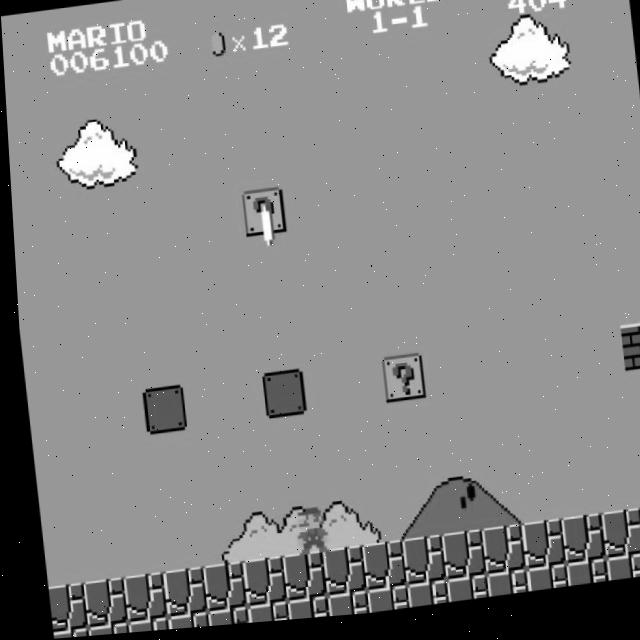1- brick_block: (615, 331, 640, 382)
11- little_mario: (280, 508, 328, 562)
13- mystery_block: (376, 359, 421, 410), (239, 191, 284, 241)
17- undestructible_block: (593, 518, 639, 569), (394, 541, 440, 591), (75, 578, 120, 629), (155, 569, 200, 620), (195, 564, 240, 615), (235, 559, 280, 610), (275, 555, 320, 606), (315, 550, 360, 601), (434, 536, 479, 587), (514, 527, 559, 578), (554, 522, 599, 573), (115, 574, 160, 624), (355, 546, 400, 596), (474, 532, 519, 582), (41, 583, 81, 633), (478, 577, 522, 605), (359, 591, 402, 619), (399, 586, 442, 614), (518, 572, 561, 600), (558, 568, 601, 596), (438, 582, 482, 609), (598, 563, 640, 590), (319, 596, 362, 621), (279, 600, 322, 624), (239, 605, 282, 627), (199, 609, 242, 629), (159, 614, 202, 632), (119, 619, 162, 634), (79, 623, 122, 637), (45, 628, 82, 639), (633, 513, 640, 563), (637, 559, 640, 586)
3- empty_block: (257, 373, 302, 424), (137, 387, 182, 437)
